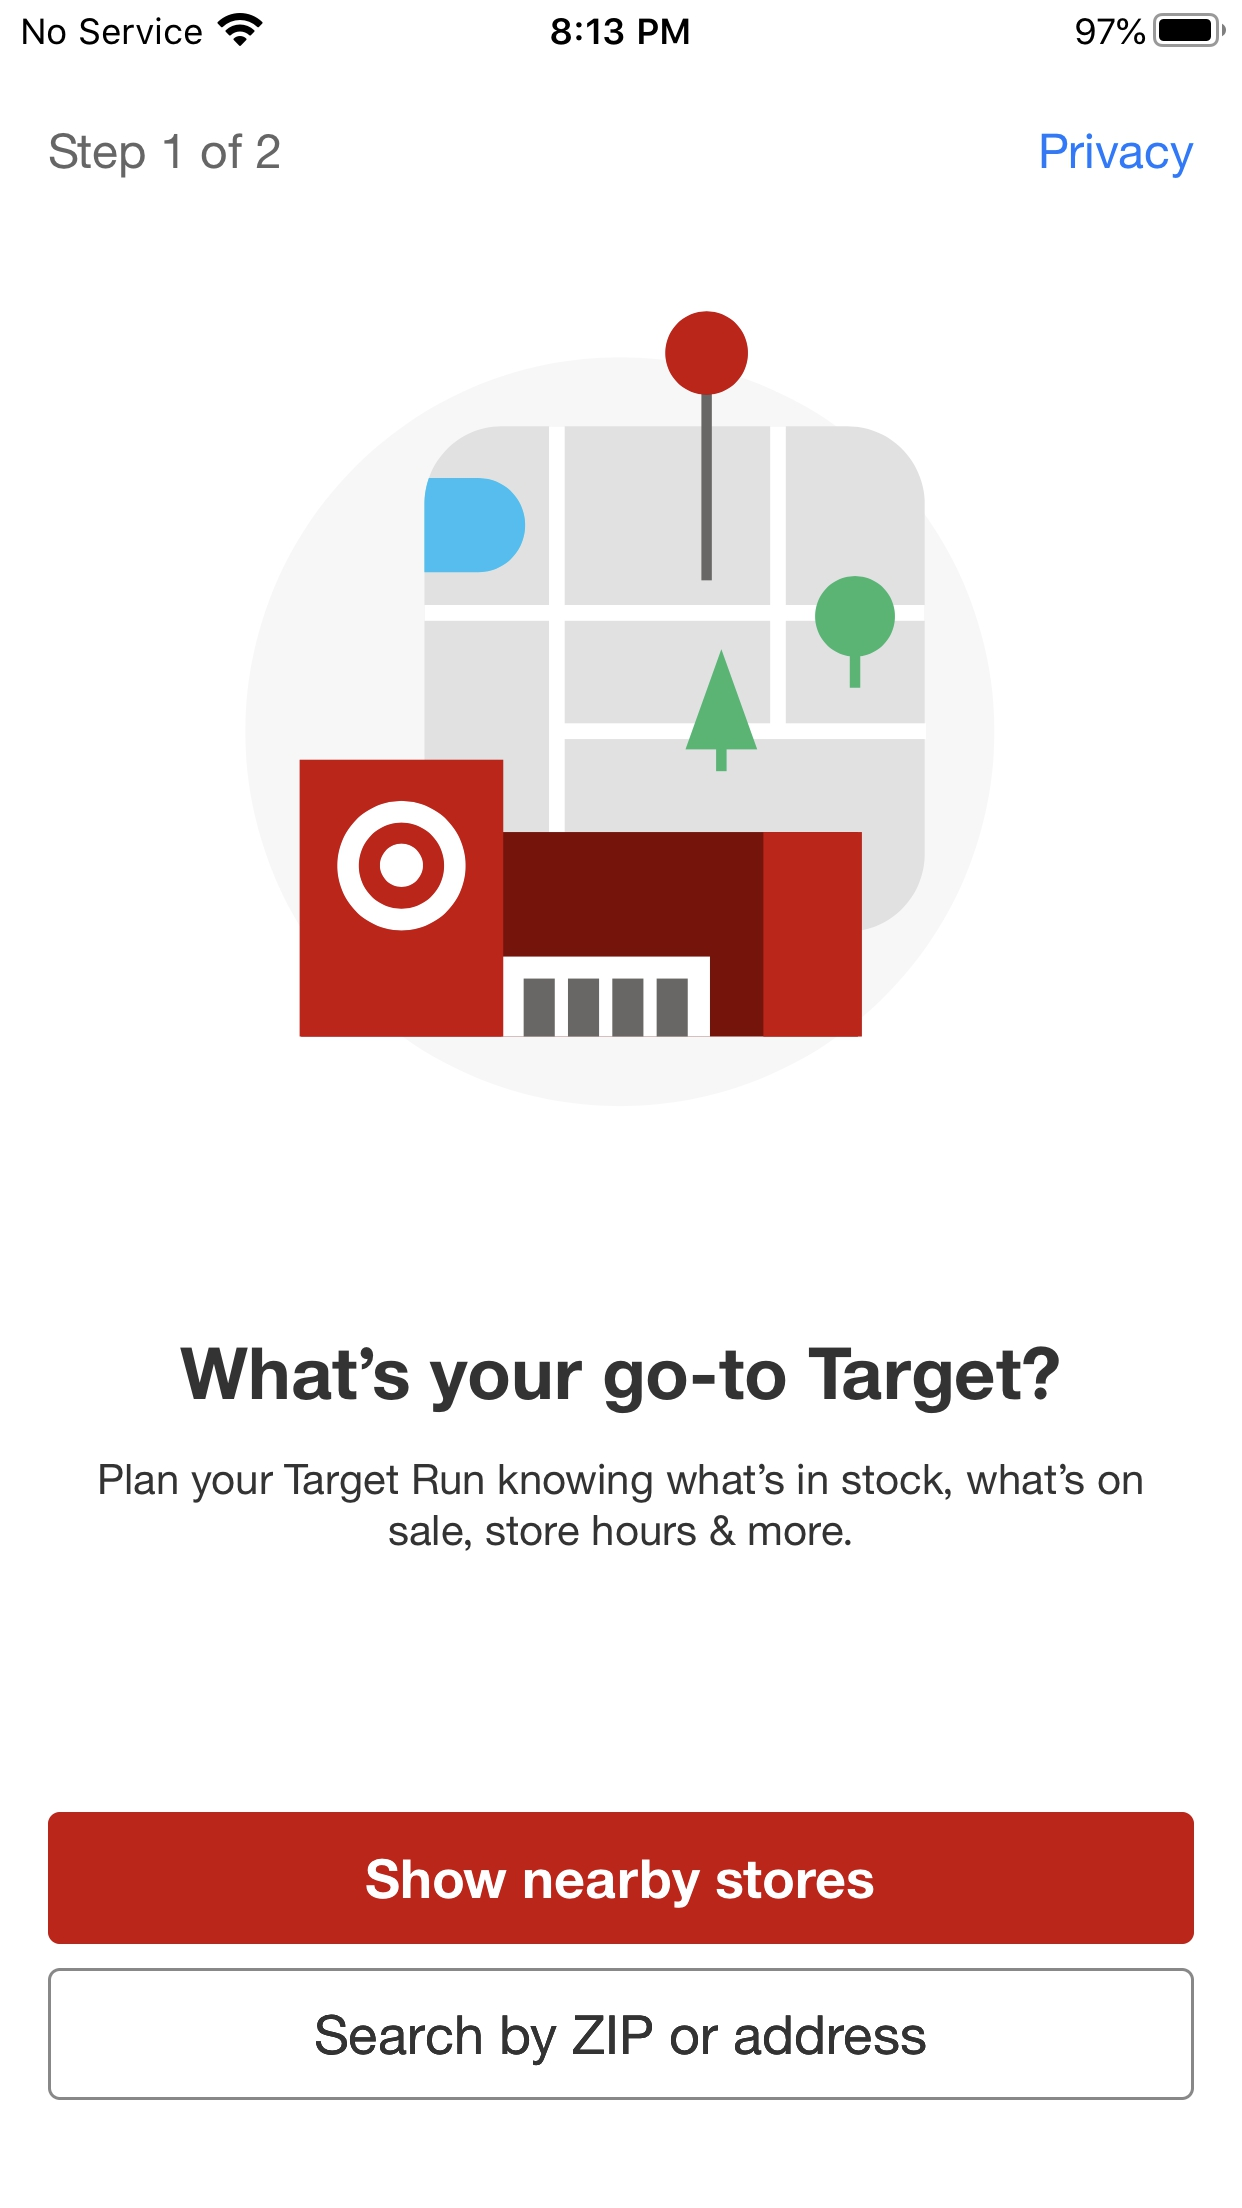Image: (246, 311, 996, 1107)
Text: (100, 1463, 1142, 1551), (180, 1347, 1059, 1413), (49, 133, 281, 179), (1040, 133, 1193, 179)
TextButton: (49, 1967, 1193, 2100), (49, 1811, 1193, 1944)
UpperTaskBar: (2, 2, 1242, 49)
